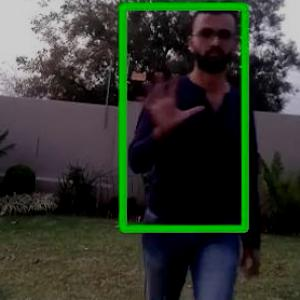follow_hand: (130, 66, 209, 134)
